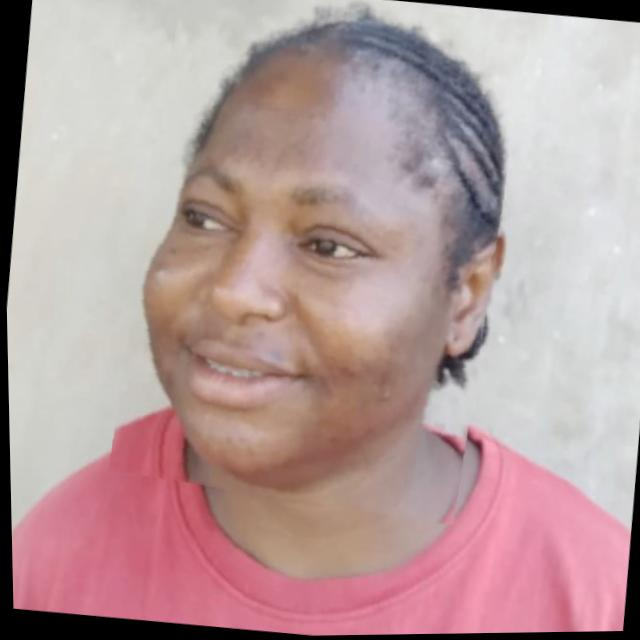happy: (103, 0, 529, 526)
